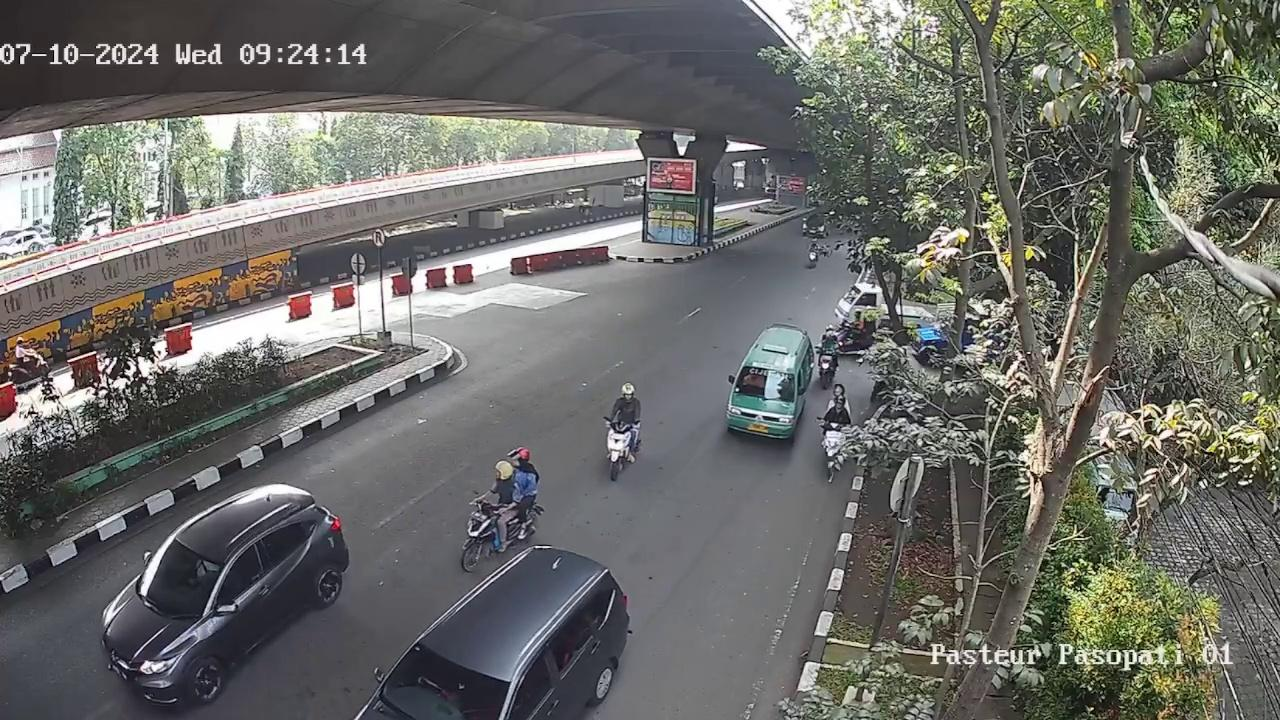pakai: (187, 556, 218, 586)
tidak-pakai: (741, 370, 764, 391)
windshield: (380, 649, 513, 720), (142, 533, 230, 615), (737, 365, 795, 402)
